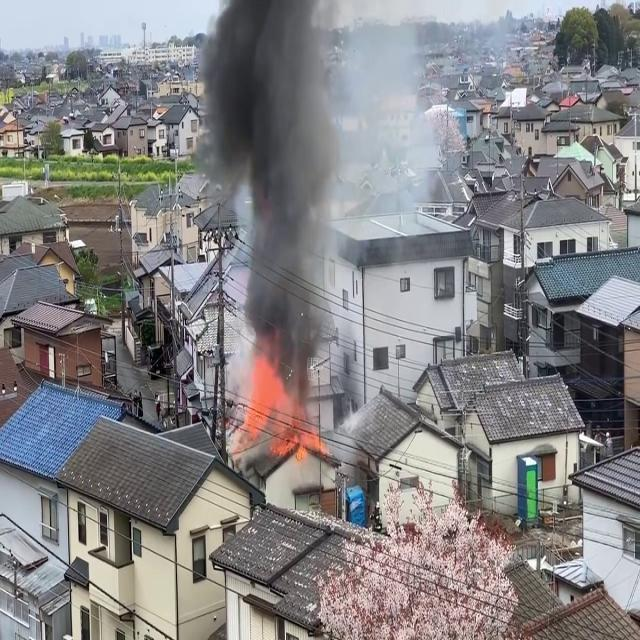Fire: (228, 360, 324, 460)
Smoke: (198, 0, 364, 391)
